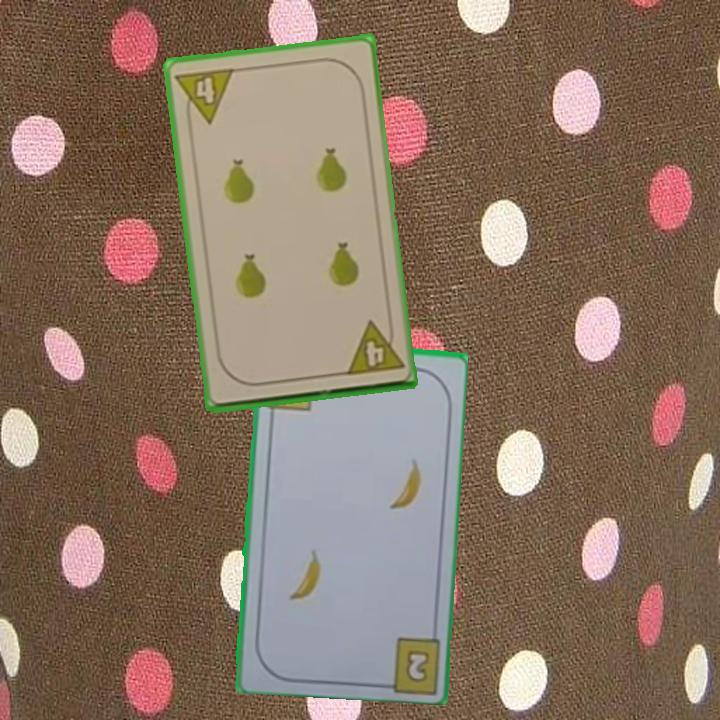2b: (402, 646, 432, 686)
4p: (172, 64, 237, 129), (341, 316, 407, 378)
